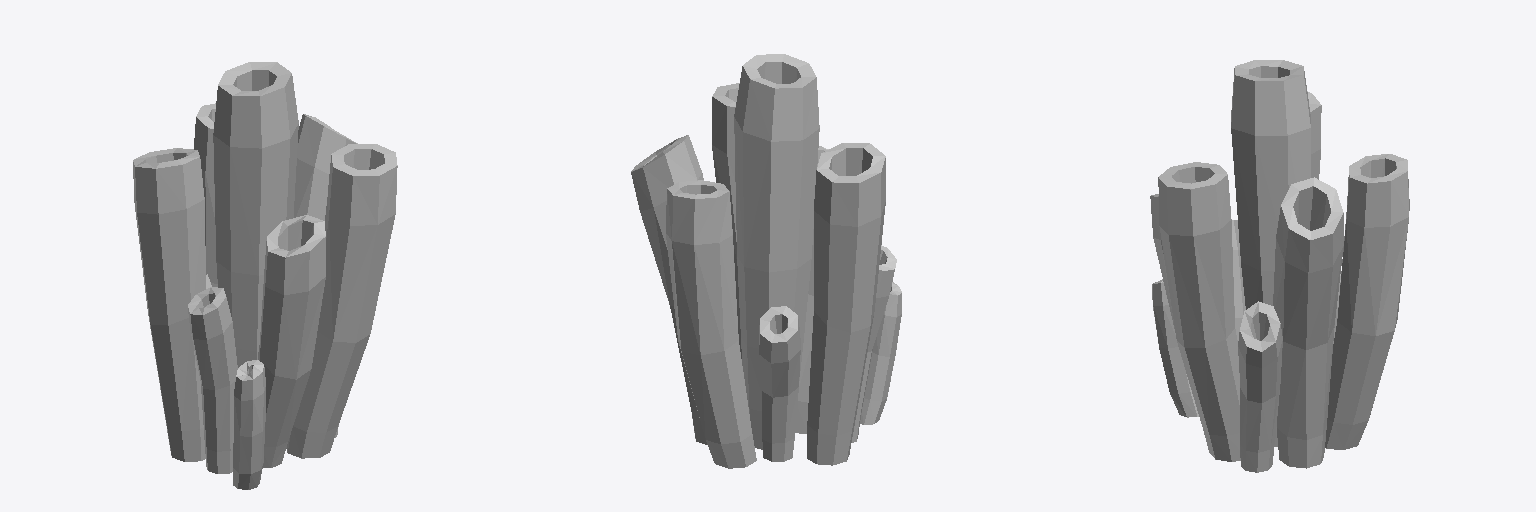
Rendered from Coral_C_03_LOD1.obj.
3 views of the same model, side by side, from view 1: azimuth 30°, elevation 25°; view 2: azimuth 150°, elevation 25°; view 3: azimuth 270°, elevation 25° (orthographic).
Parts seen in each view (by area): view 1: Coral_C_03_LOD1_Cylinder.398; view 2: Coral_C_03_LOD1_Cylinder.398; view 3: Coral_C_03_LOD1_Cylinder.398.
Part boxes in pixels (left/top/right/bottom): Coral_C_03_LOD1_Cylinder.398: left=133, top=62, right=397, bottom=489; Coral_C_03_LOD1_Cylinder.398: left=631, top=54, right=901, bottom=468; Coral_C_03_LOD1_Cylinder.398: left=1150, top=60, right=1409, bottom=472.
Size of the model in its own units: 4.25 by 6.46 by 4.08.